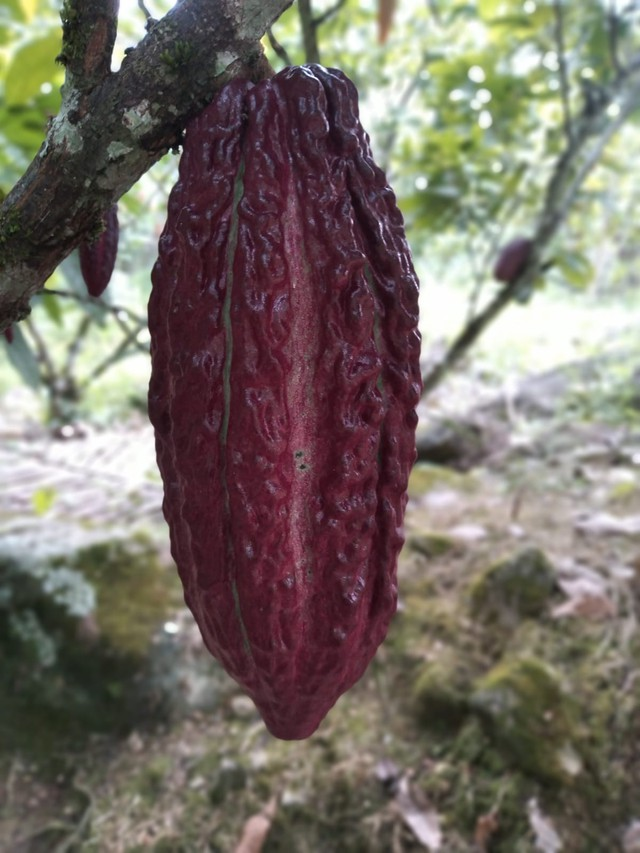Health: (123, 25, 445, 755)
